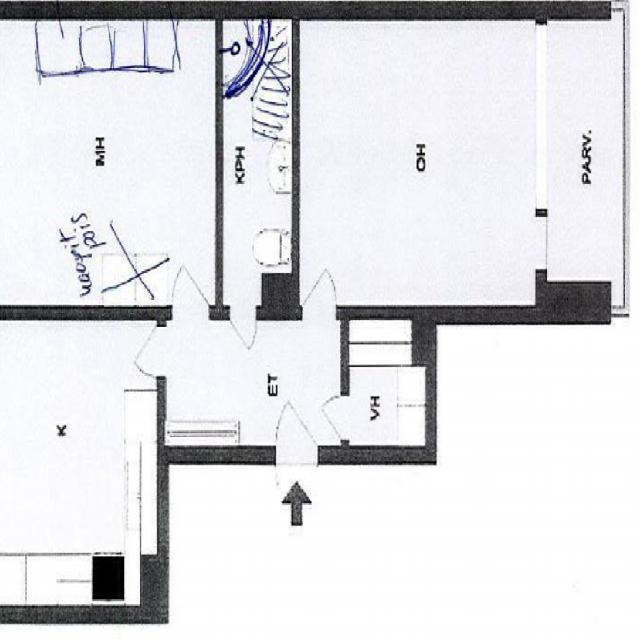door: (275, 445, 318, 532), (275, 377, 318, 463), (172, 247, 209, 319), (301, 250, 337, 319), (124, 326, 166, 378), (312, 396, 348, 440), (229, 306, 257, 362)
